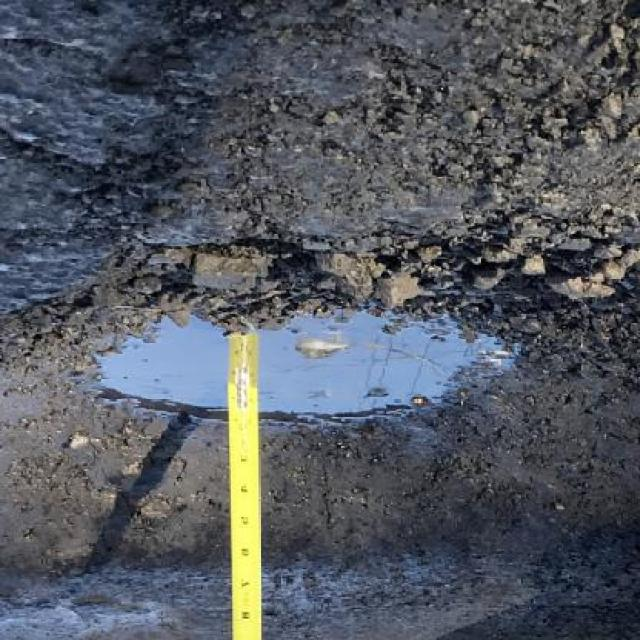pothole: (0, 228, 640, 584)
